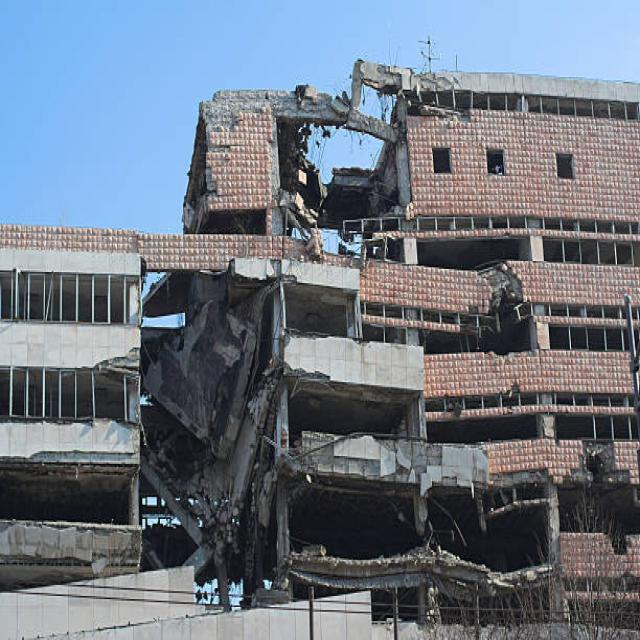Destroyed_building: (2, 0, 624, 640)
